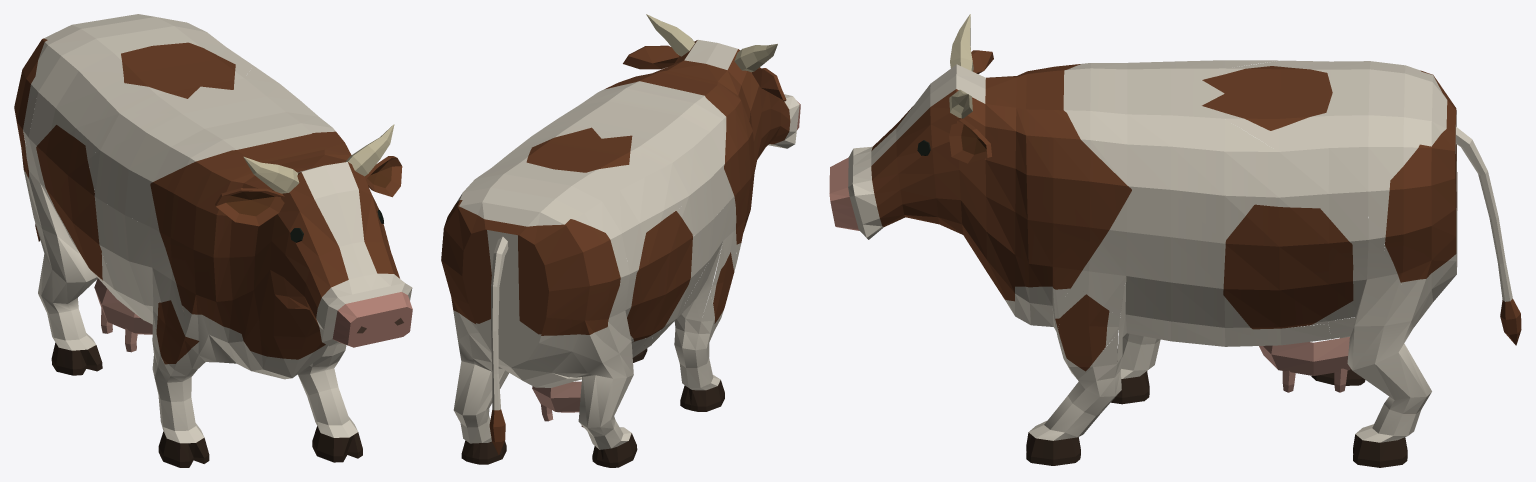
Rendered from cow-base__walk5.glb.
3 views of the same model, side by side, from view 1: azimuth 30°, elevation 25°; view 2: azimuth 150°, elevation 25°; view 3: azimuth 270°, elevation 25° (orthographic). The views are drawn at different scales.
Parts seen in each view (by area): view 1: cow-base__walk5; view 2: cow-base__walk5; view 3: cow-base__walk5.
Part boxes in pixels (x1,y1,x2,y2): cow-base__walk5: (14, 14, 412, 467); cow-base__walk5: (441, 14, 800, 467); cow-base__walk5: (829, 14, 1521, 467).
Size of the model in its own units: 0.8397 by 1.41 by 2.36.
